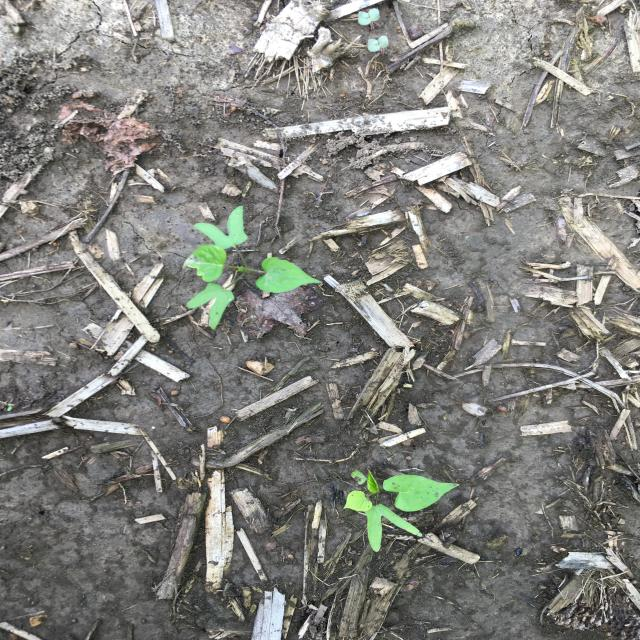MorningGlory: (181, 204, 325, 332), (340, 468, 464, 553)
